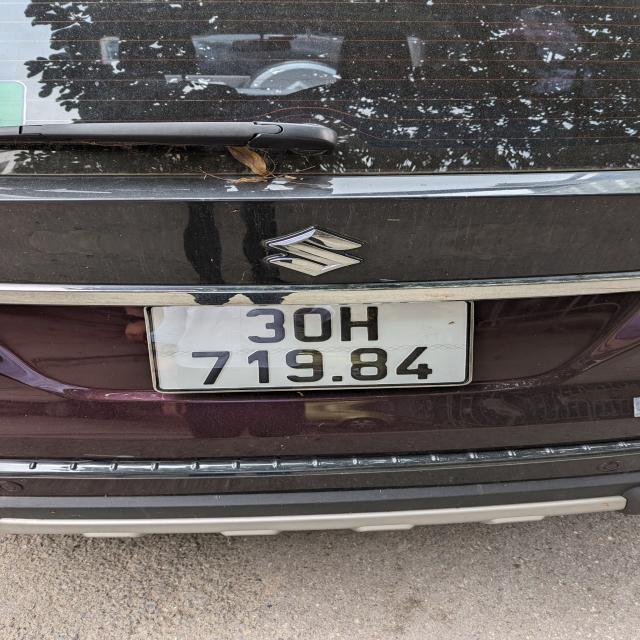License: (143, 300, 473, 394)
